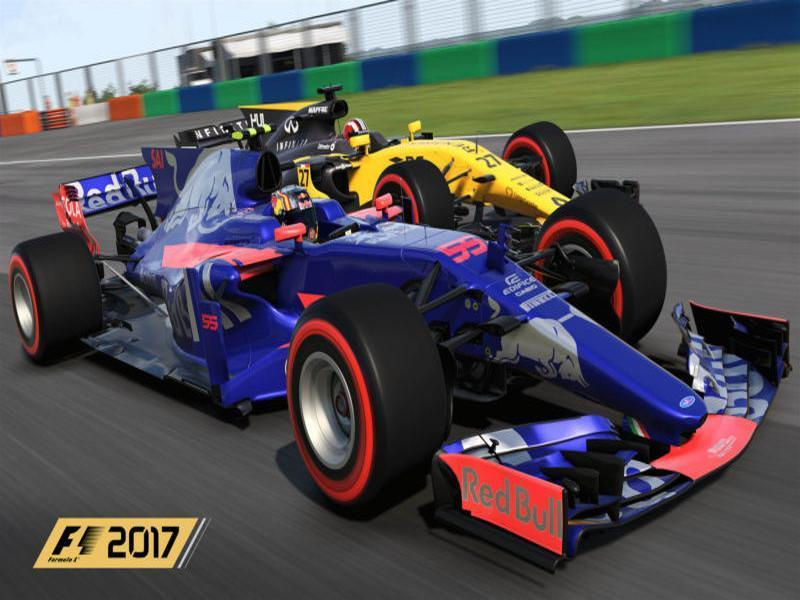f1: (12, 89, 791, 542)
